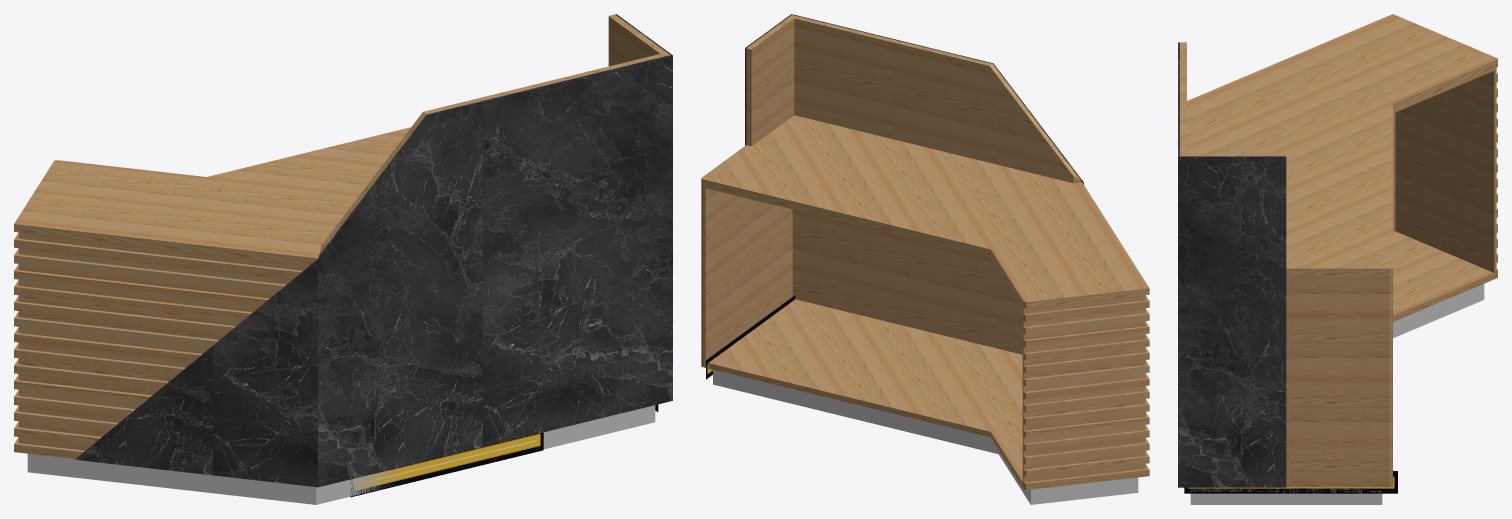
Rendered from service_counter.gltf.
3 views of the same model, side by side, from view 1: azimuth 30°, elevation 25°; view 2: azimuth 150°, elevation 25°; view 3: azimuth 270°, elevation 25° (orthographic). The views are drawn at different scales.
Parts seen in each view (by area): view 1: Material3 (×2), Material2 (×2); view 2: Material2 (×2), Material3 (×2); view 3: Material2 (×2), Material3 (×2).
Part boxes in pixels (left/top/right/bottom): Material3 (×2): left=27, top=14, right=672, bottom=504; Material2 (×2): left=14, top=14, right=669, bottom=497; Material2 (×2): left=701, top=15, right=1149, bottom=489; Material3 (×2): left=713, top=14, right=1138, bottom=504; Material2 (×2): left=1180, top=14, right=1497, bottom=493; Material3 (×2): left=1178, top=42, right=1484, bottom=504.
Size of the model in its own units: 67.17 by 43.4 by 35.53.
